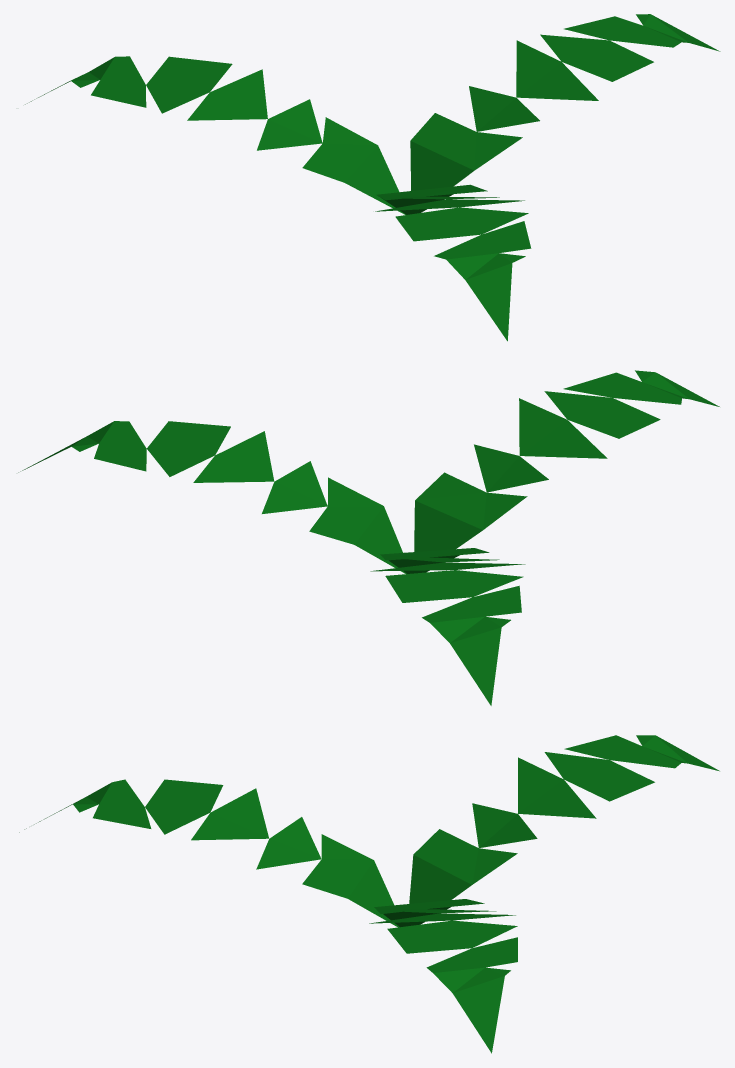
The model's file is obj_fern_2_0.obj.
The picture shows the model from 3 angles, top to bottom: view 1: azimuth 30°, elevation 25°; view 2: azimuth 150°, elevation 25°; view 3: azimuth 270°, elevation 25°; orthographic projection. The views are drawn at different scales.
Bounding box in the file's own units: 0.7969 × 0.125 × 0.8438.
